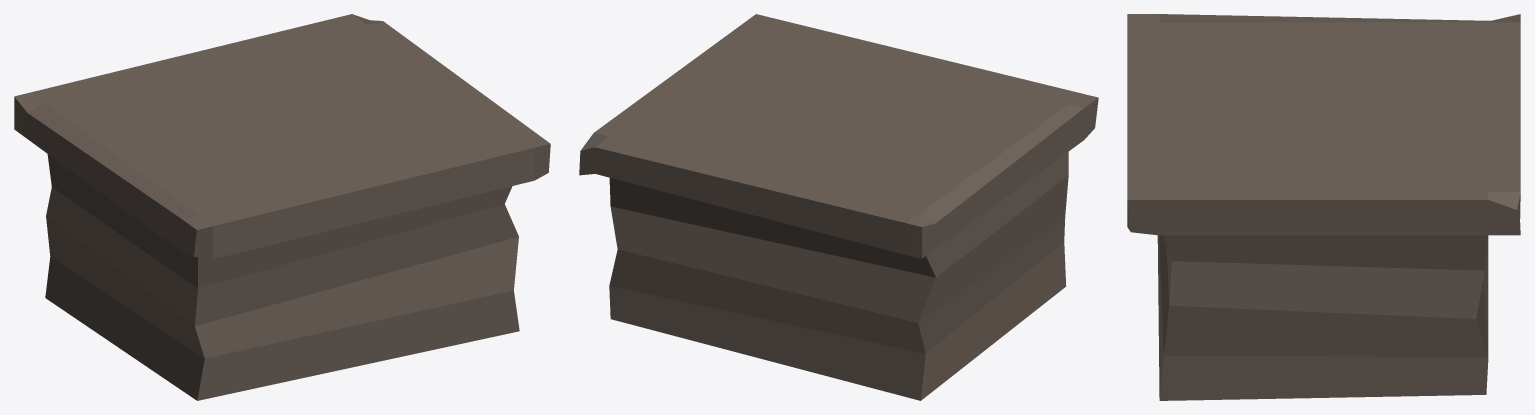
3 views of the same model, side by side, from view 1: azimuth 30°, elevation 25°; view 2: azimuth 150°, elevation 25°; view 3: azimuth 270°, elevation 25° (orthographic). The views are drawn at different scales.
Visible parts, largest first — view 1: Box; view 2: Box; view 3: Box.
Boxes of the visible parts, x1,y1,x2,y2 form: Box: (14, 14, 550, 400); Box: (579, 14, 1098, 400); Box: (1127, 14, 1520, 400).
Bounding box in the file's own units: 99.24 × 52 × 88.51.
